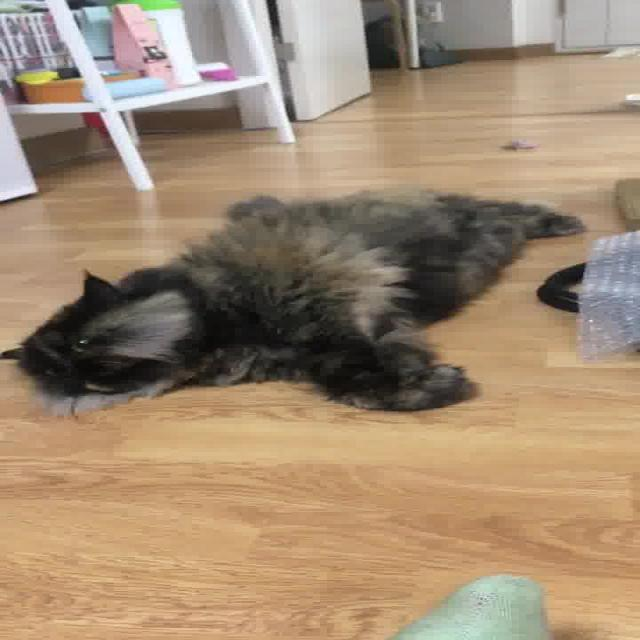cat: (15, 134, 590, 438)
